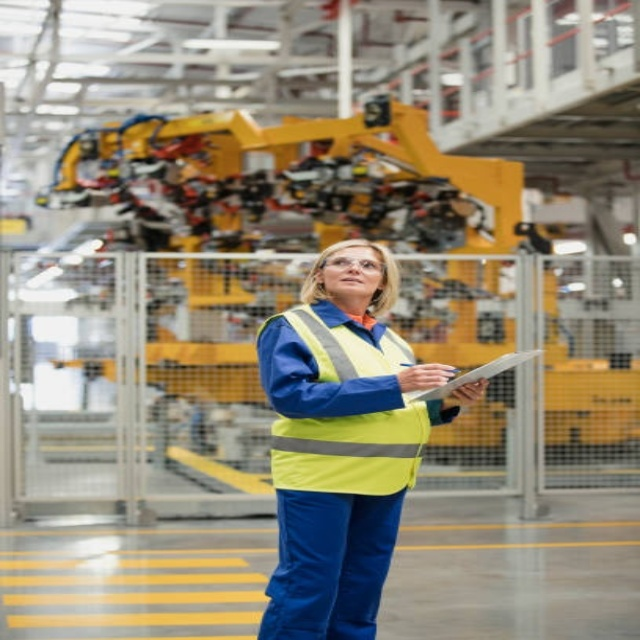Gafas: (323, 257, 385, 274)
Sin_guantes: (398, 363, 460, 393), (448, 375, 489, 403)
Sin_mascara: (336, 275, 365, 292)
